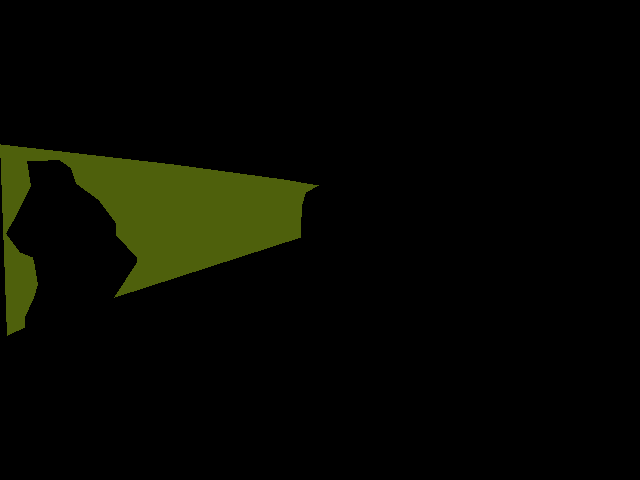Train: (0, 144, 318, 335)
